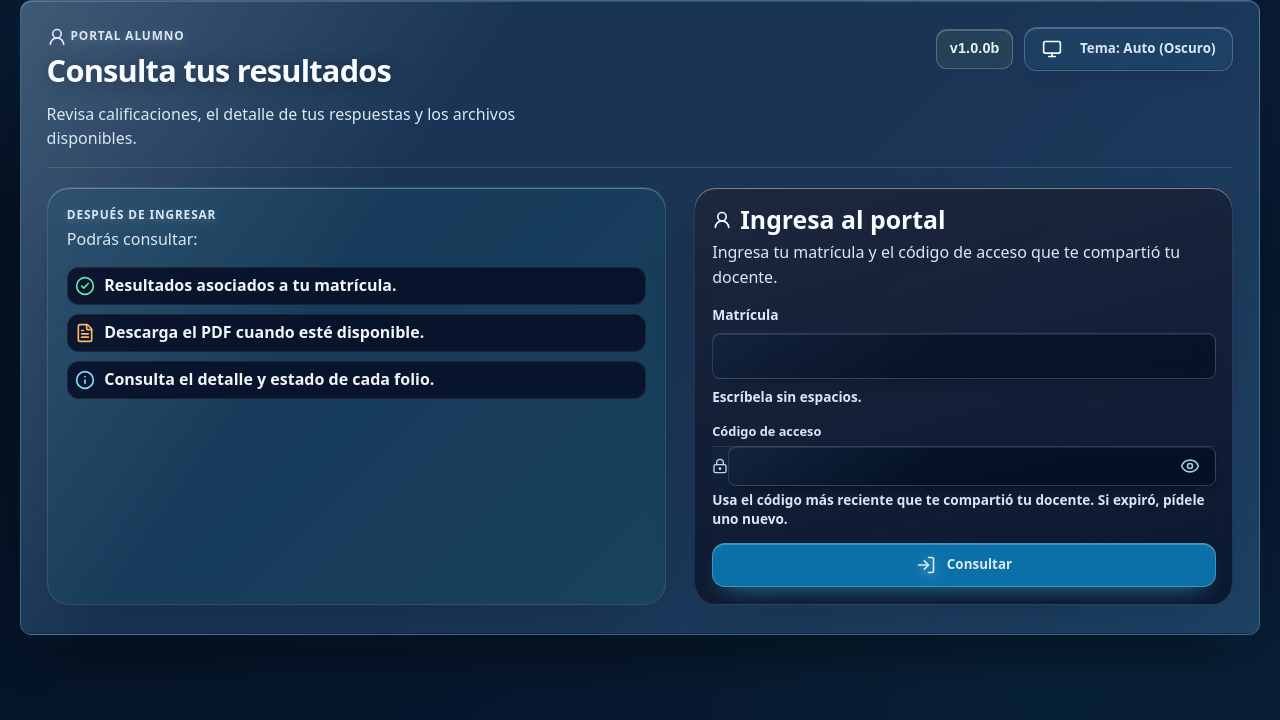
Test: AppAlumno behavior › mantiene el error de acceso en el formulario sin duplicarlo en un toast
Type "demo01" into the password field labelled "Código de acceso" at (972, 466), box [728,446,1216,486]
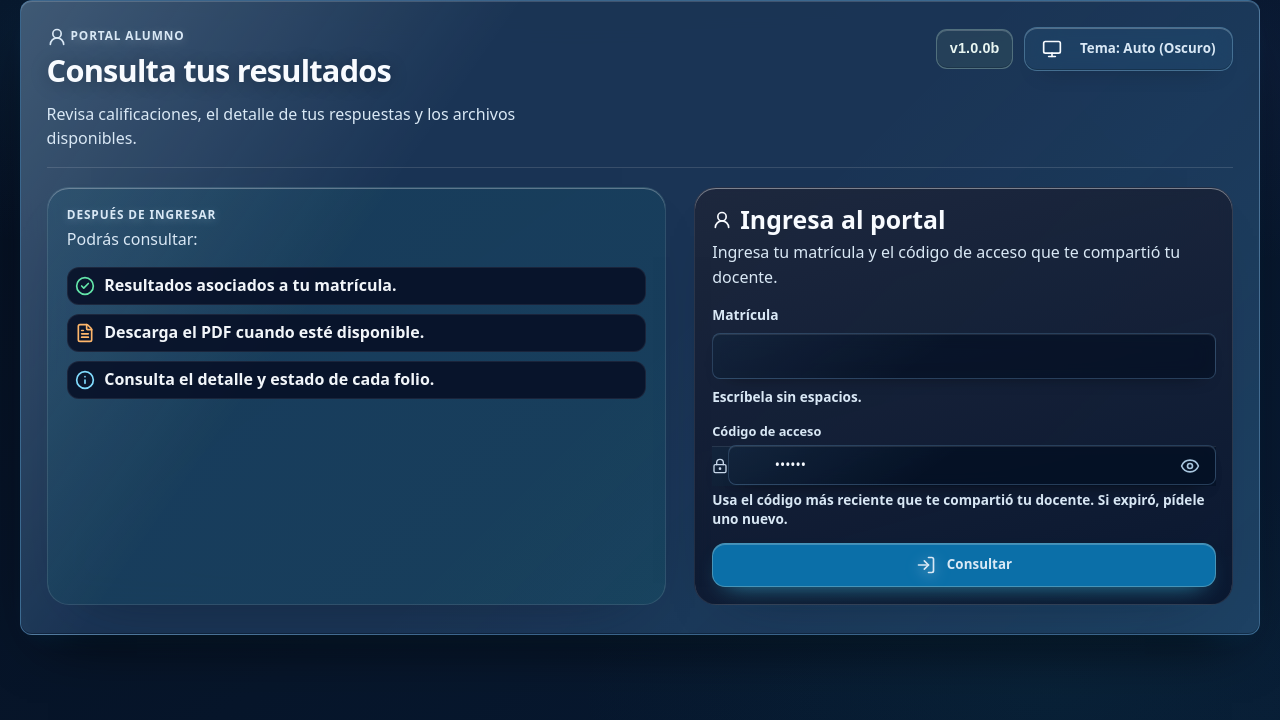
Type "DUMMY-01" into the field labelled "Matrícula Escríbela sin espacios." at (964, 356), box [712,333,1216,379]
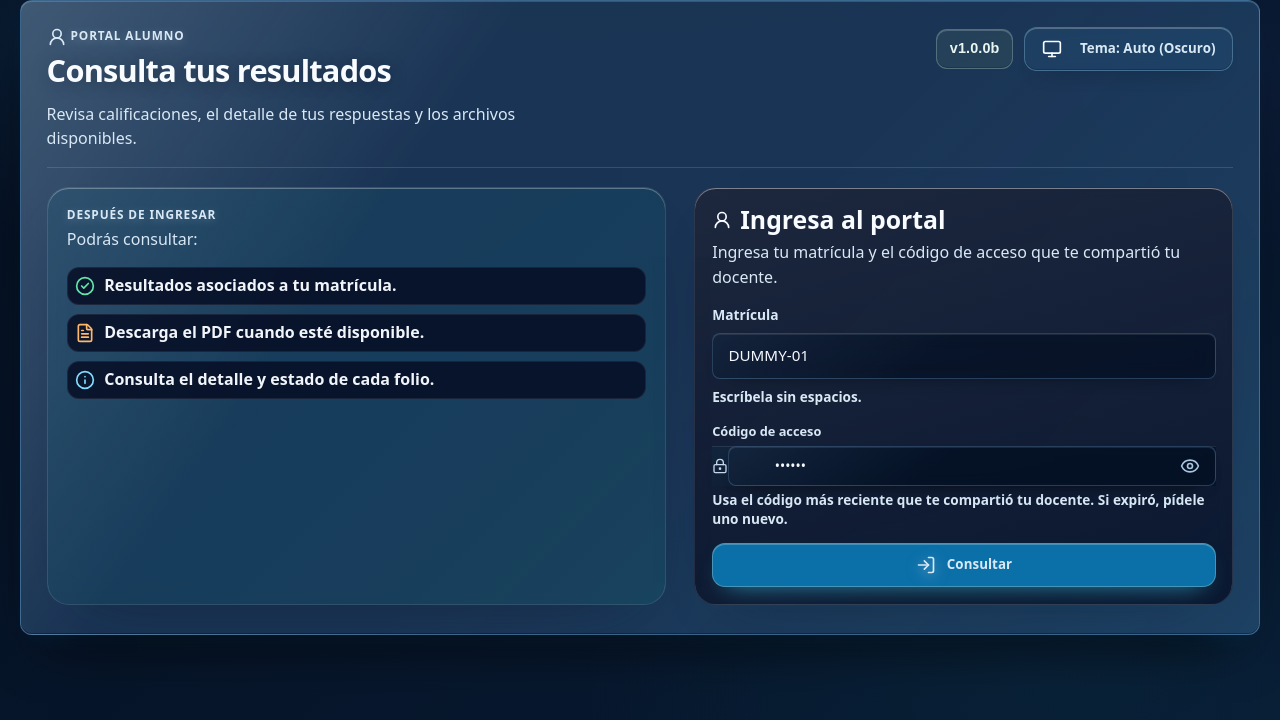
Press Enter
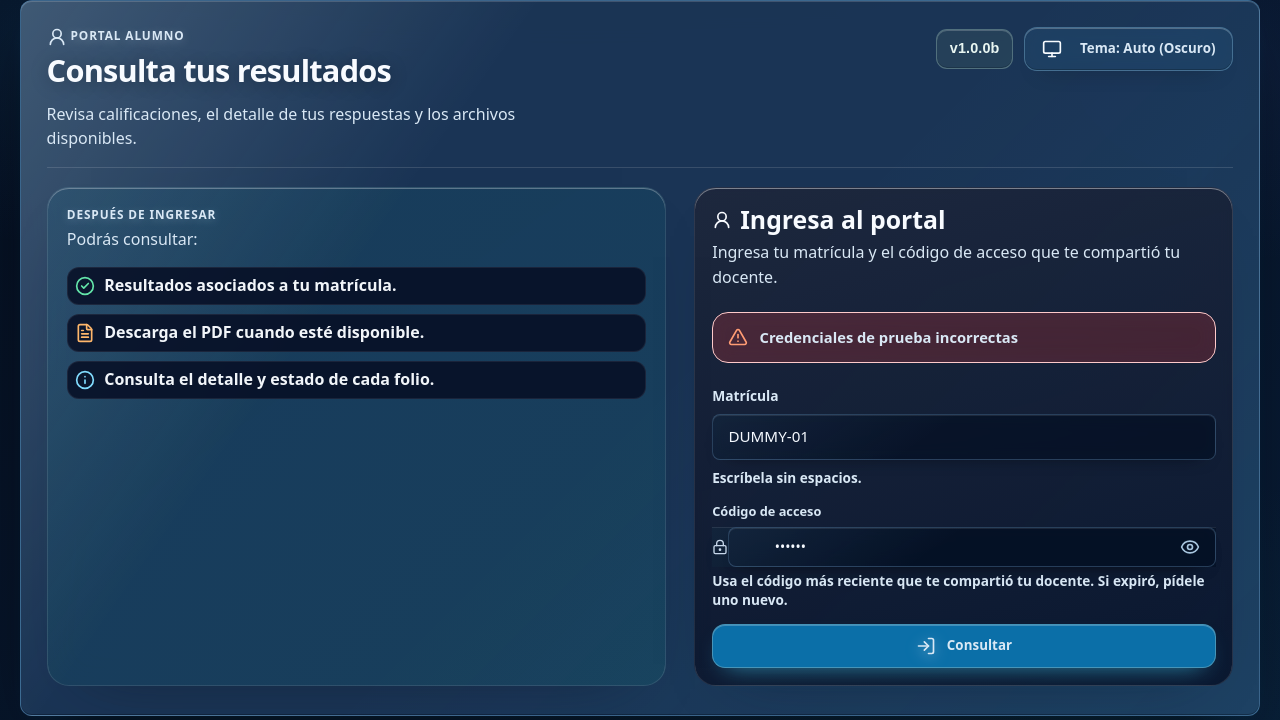
expect the message reads "Credenciales de prueba incorrectas": met, box [760,327,1018,347]
